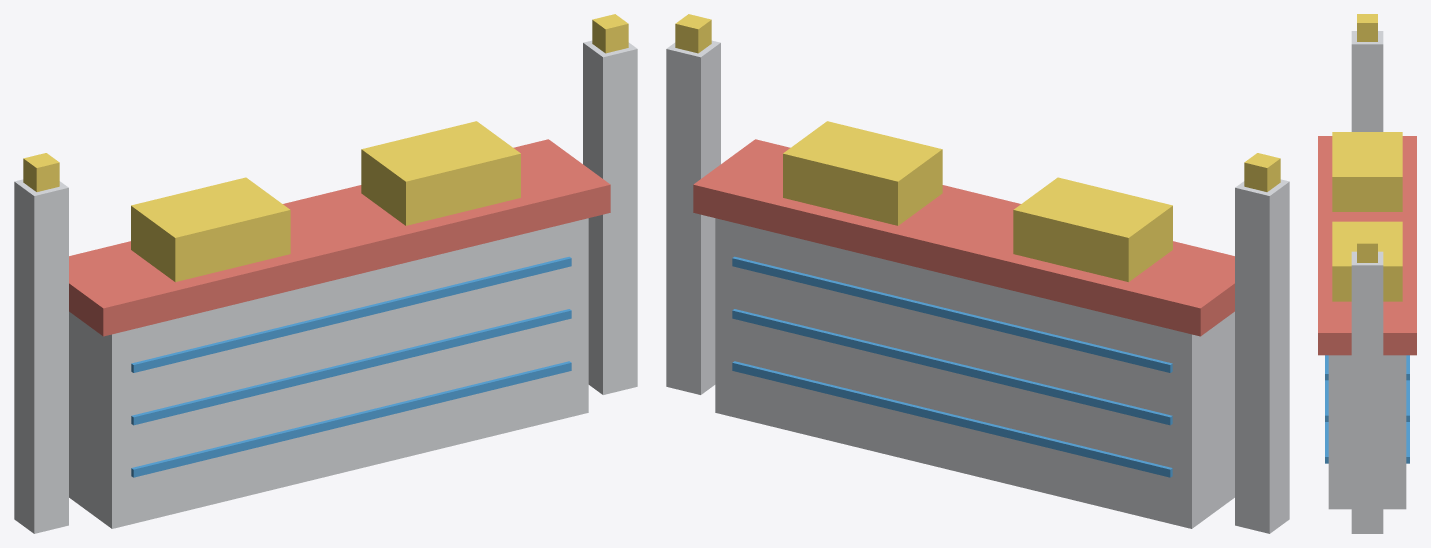
File: dog-agility-and-training-field-wall-jump-51118c85__35590.glb
The picture shows the model from 3 angles, left to right: view 1: azimuth 30°, elevation 25°; view 2: azimuth 150°, elevation 25°; view 3: azimuth 270°, elevation 25°; orthographic projection. The views are drawn at different scales.
Parts seen in each view (by area): view 1: wall-jump-steel, wall-jump-poppy, wall-jump-sunflower, wall-jump-azure; view 2: wall-jump-steel, wall-jump-poppy, wall-jump-sunflower, wall-jump-azure; view 3: wall-jump-steel, wall-jump-sunflower, wall-jump-poppy, wall-jump-azure.
Boxes of the visible parts, box(x1,y1,x2,y2) form: wall-jump-steel: box(14, 40, 637, 533); wall-jump-poppy: box(69, 139, 610, 336); wall-jump-sunflower: box(23, 14, 628, 282); wall-jump-azure: box(131, 256, 571, 477); wall-jump-steel: box(666, 40, 1289, 533); wall-jump-poppy: box(693, 139, 1234, 336); wall-jump-sunflower: box(675, 14, 1280, 282); wall-jump-azure: box(732, 256, 1172, 477); wall-jump-steel: box(1328, 31, 1406, 533); wall-jump-sunflower: box(1332, 14, 1402, 301); wall-jump-poppy: box(1318, 136, 1416, 355); wall-jump-azure: box(1325, 355, 1409, 463).
Bounding box in the file's own units: 1.57 × 0.8999 × 0.2799.
